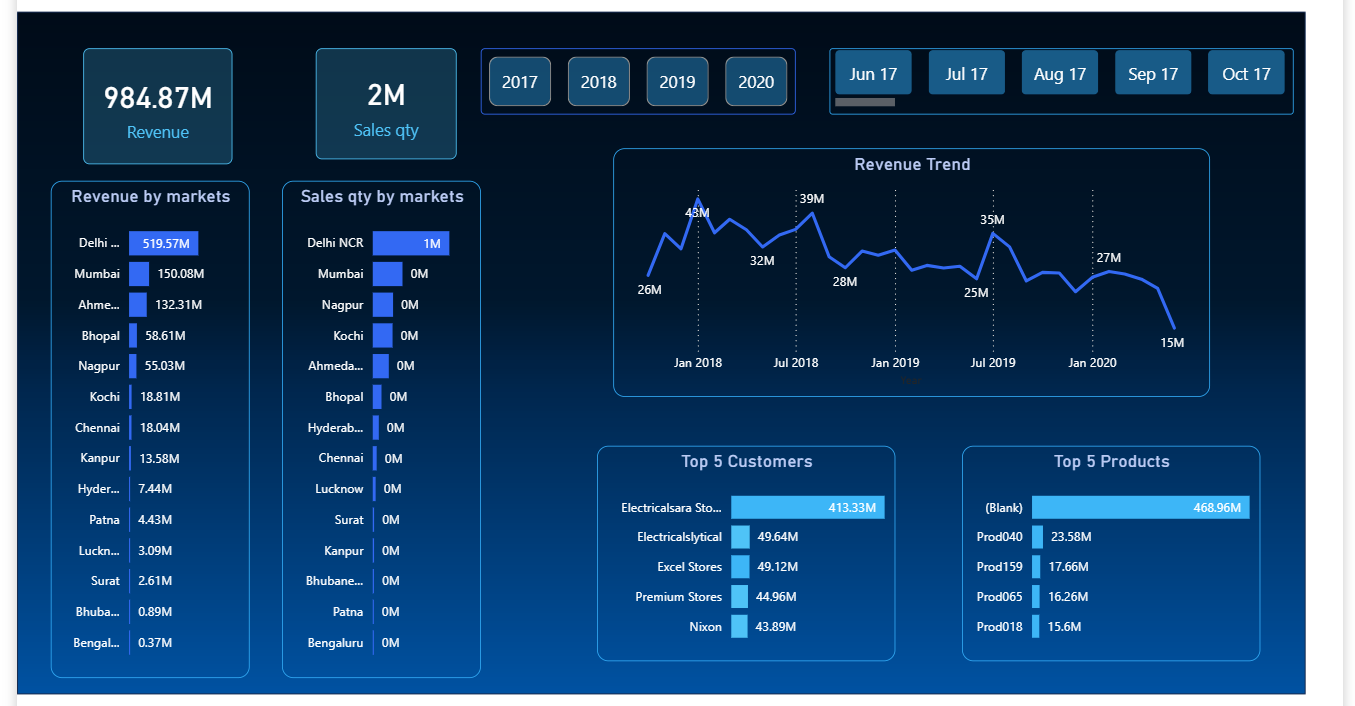

The dashboard page shown, as its layout file describes it:
{"tool":"powerbi","page":{"name":"Page 1","canvas":[1280,720],"ordinal":0},"visuals":[{"type":"card","fields":{"Values":["BaseMeasures.Revenue"]},"box":[64,64,144,112],"z":0},{"type":"card","fields":{"Values":["BaseMeasures.Sales qty"]},"box":[288,64,136,107],"z":1000},{"type":"barChart","title":"Revenue by markets","fields":{"Y":["BaseMeasures.Revenue"],"Category":["sales markets.markets_name"]},"box":[32,192,192,480],"z":2000},{"type":"barChart","title":"Sales qty by markets","fields":{"Y":["BaseMeasures.Sales qty"],"Category":["sales markets.markets_name"]},"box":[256,192,192,480],"z":3000},{"type":"advancedSlicerVisual","fields":{"Values":["sales date.year"]},"box":[448,64,304,64],"z":4000},{"type":"advancedSlicerVisual","fields":{"Values":["sales date.cy_date"]},"box":[784,64,448,64],"z":5000},{"type":"barChart","title":"Top 5 Customers","fields":{"Y":["BaseMeasures.Revenue"],"Category":["sales customers.custmer_name"]},"box":[560,448,288,208],"z":6000},{"type":"barChart","title":"Top 5 Products","fields":{"Y":["BaseMeasures.Revenue"],"Category":["sales products.product_code"]},"box":[912,448,288,208],"z":7000},{"type":"lineChart","title":"Revenue Trend","fields":{"Y":["BaseMeasures.Revenue"],"Category":["sales date.cy_date.Variation.Date Hierarchy.Year","sales date.cy_date.Variation.Date Hierarchy.Quarter","sales date.cy_date.Variation.Date Hierarchy.Month","sales date.cy_date.Variation.Date Hierarchy.Day"]},"box":[576,160,576,240],"z":8000}]}

Visuals, with their boxes on the page's 1280x720 design canvas (x1, y1, x2, y2). These are canvas units, not pixel positions in the 1355x706 screenshot, which may show the page scaled, cropped or inside an application window:
card - BaseMeasures.Revenue: bbox=(64, 64, 208, 176)
card - BaseMeasures.Sales qty: bbox=(288, 64, 424, 171)
"Revenue by markets" barChart: bbox=(32, 192, 224, 672)
"Sales qty by markets" barChart: bbox=(256, 192, 448, 672)
advancedSlicerVisual - sales date.year: bbox=(448, 64, 752, 128)
advancedSlicerVisual - sales date.cy_date: bbox=(784, 64, 1232, 128)
"Top 5 Customers" barChart: bbox=(560, 448, 848, 656)
"Top 5 Products" barChart: bbox=(912, 448, 1200, 656)
"Revenue Trend" lineChart: bbox=(576, 160, 1152, 400)
